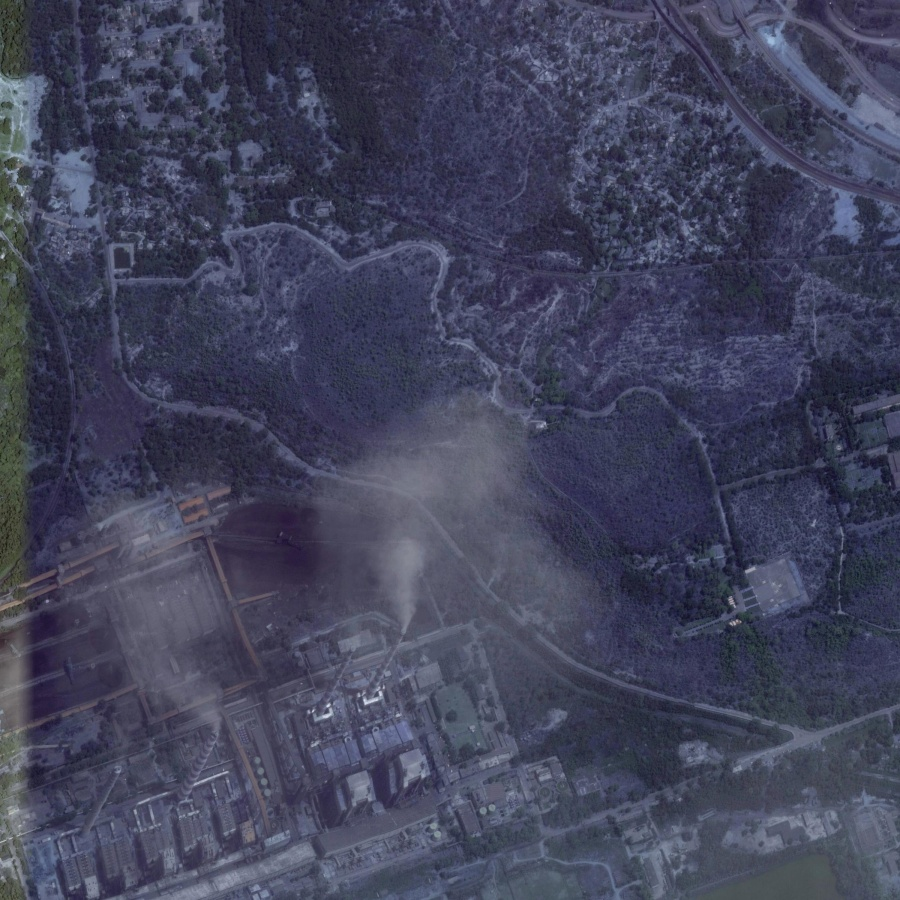PowerPlant: (54, 481, 509, 894)
